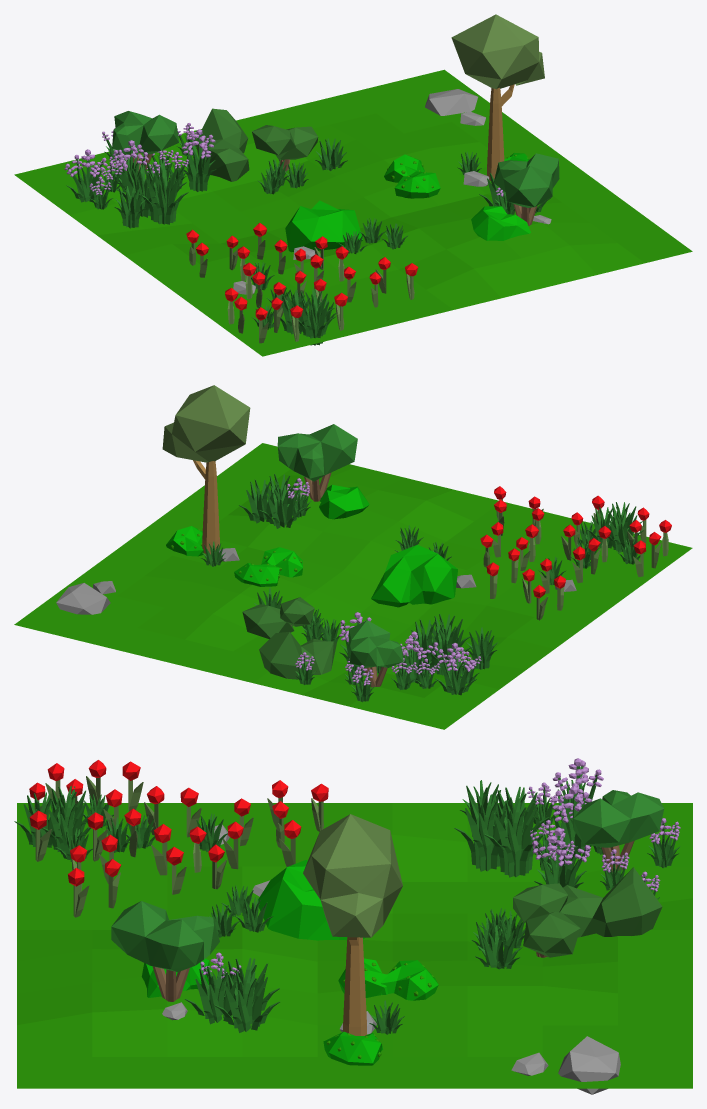
The model's file is MEADOW_FIELD05.fbx.
3 views of the same model, one above another, from view 1: azimuth 30°, elevation 25°; view 2: azimuth 150°, elevation 25°; view 3: azimuth 270°, elevation 25° (orthographic). The views are drawn at different scales.
Visible parts, largest first — view 1: Grid.001; view 2: Grid.001; view 3: Grid.001.
Part boxes in pixels (x1,y1,x2,y2): Grid.001: (14, 14, 692, 356); Grid.001: (14, 385, 692, 729); Grid.001: (14, 758, 692, 1094).
Bounding box in the file's own units: 1000 × 424 × 1005.
